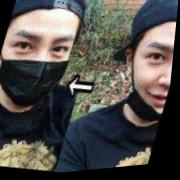OK: (1, 21, 82, 112)
WRONG: (122, 30, 177, 131)
